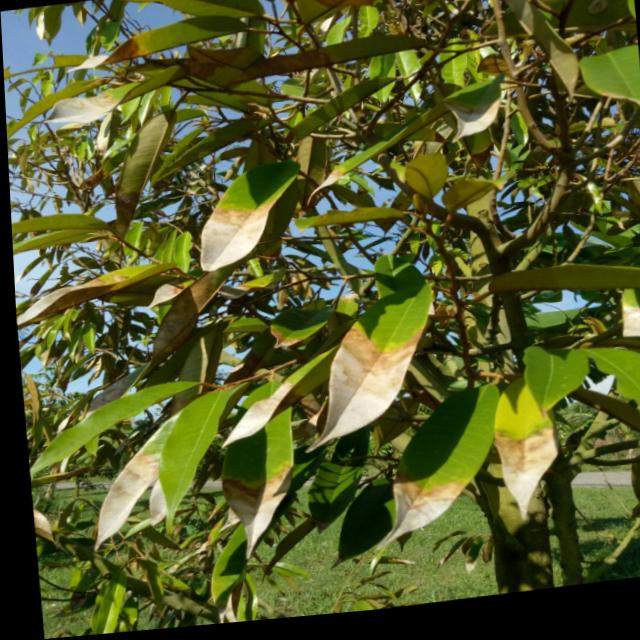Leaf Blight: (291, 314, 439, 457), (208, 467, 319, 570), (180, 190, 286, 282), (67, 451, 161, 546), (367, 479, 462, 564), (11, 268, 126, 332), (478, 426, 558, 515), (427, 99, 510, 150)
